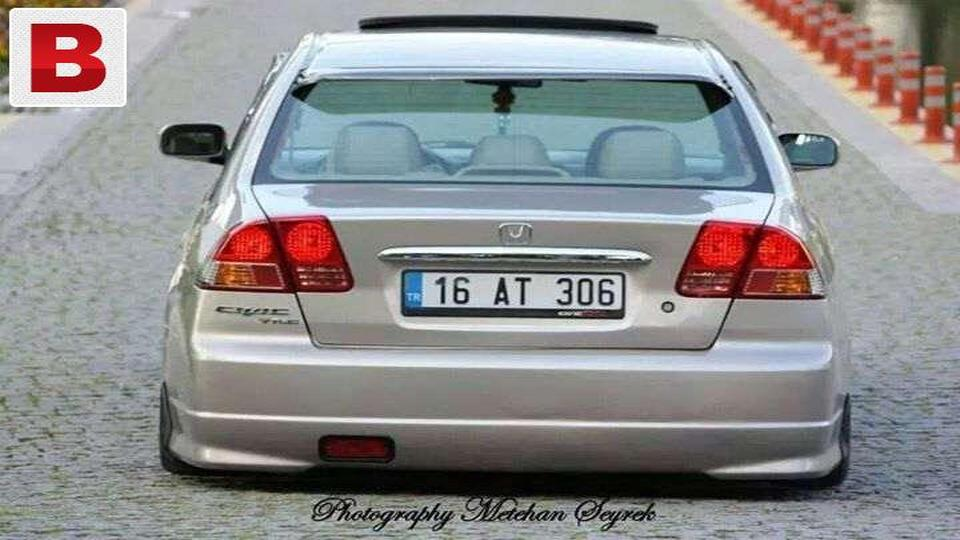NumberPlate: (396, 262, 632, 331)
